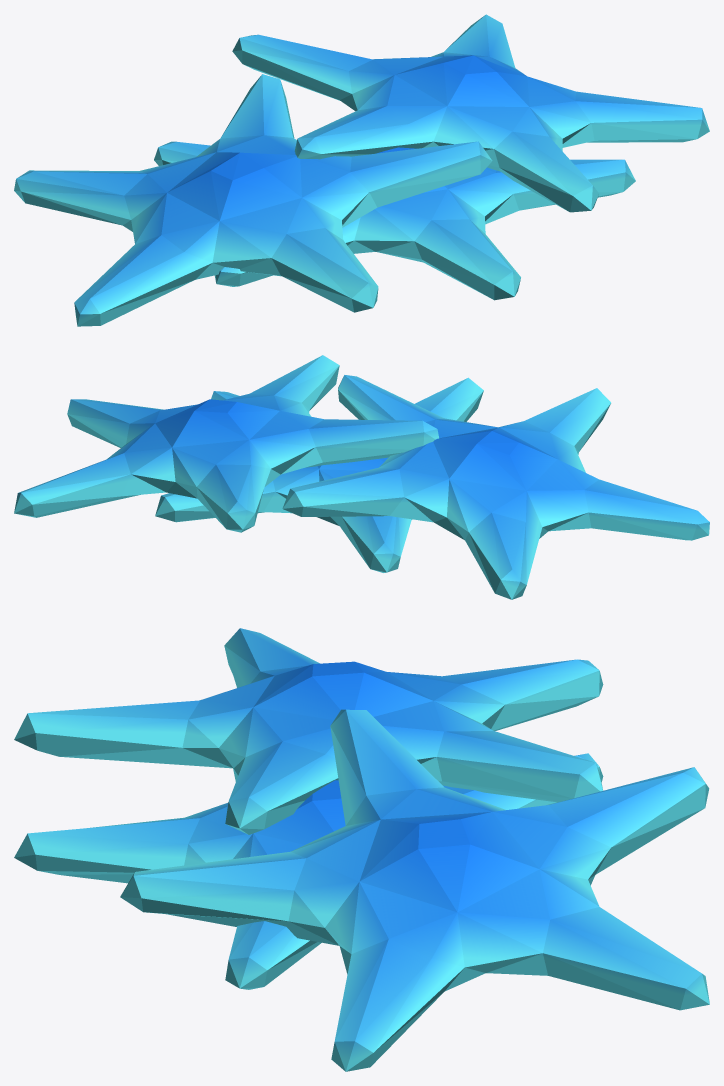
File: SM_Starfish_4.fbx
3 views of the same model, one above another, from view 1: azimuth 30°, elevation 25°; view 2: azimuth 150°, elevation 25°; view 3: azimuth 270°, elevation 25° (orthographic). The views are drawn at different scales.
Visible parts, largest first — view 1: Starfish_4; view 2: Starfish_4; view 3: Starfish_4.
Boxes of the visible parts, x1,y1,x2,y2 form: Starfish_4: (14, 14, 709, 326); Starfish_4: (14, 355, 709, 599); Starfish_4: (14, 628, 709, 1071).
Bounding box in the file's own units: 39.74 × 5.55 × 27.79.
